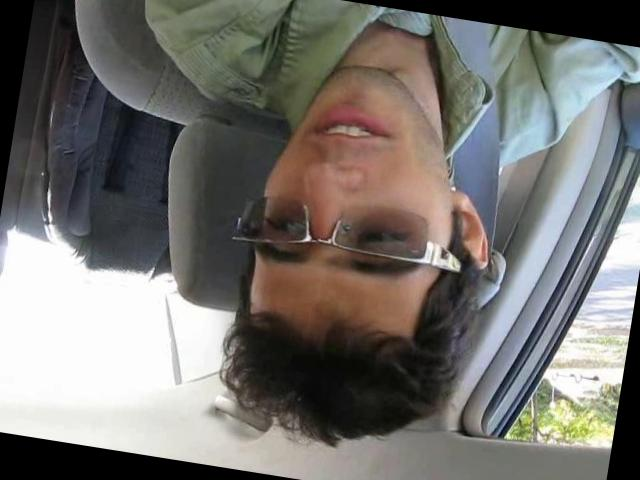eye_open: (339, 209, 422, 262), (257, 200, 315, 244)
face: (243, 53, 472, 310)
